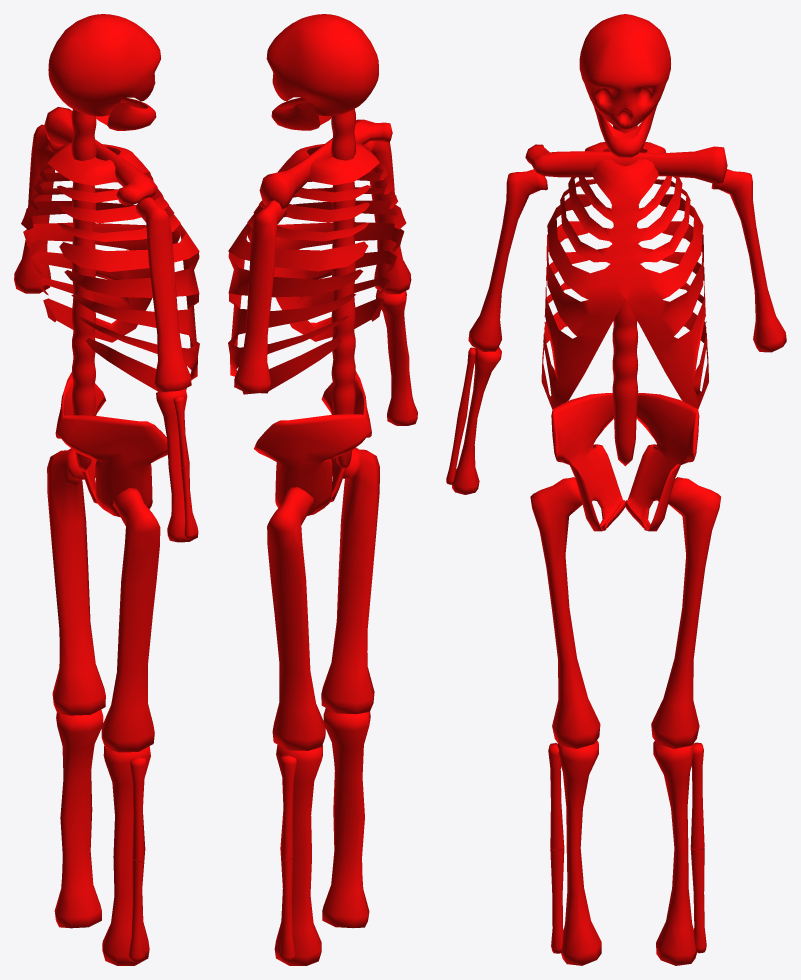
Rendered from red skeleton.fbx.
The picture shows the model from 3 angles, left to right: view 1: azimuth 30°, elevation 25°; view 2: azimuth 150°, elevation 25°; view 3: azimuth 270°, elevation 25°; orthographic projection.
Parts seen in each view (by area): view 1: Cube.009, Plane, Cube.001, Cube, Cube.008, Cube.005, Cube.004, Plane.001, Cube.010, Cube.002, Cube.006, Cube.003 (+1 smaller); view 2: Cube.009, Plane, Cube, Cube.001, Cube.008, Cube.004, Cube.005, Plane.001, Cube.010, Cube.003, Cube.006, Cube.007 (+1 smaller); view 3: Cube.009, Cube.008, Plane, Cube.004, Cube.005, Cube.001, Cube, Plane.001, Cube.007, Cube.002, Cube.010, Cube.003 (+1 smaller).
Part boxes in pixels (left/top/right/bottom): Cube.009: left=21, top=143, right=199, bottom=390; Plane: left=48, top=14, right=160, bottom=130; Cube.001: left=47, top=448, right=105, bottom=715; Cube: left=101, top=488, right=160, bottom=752; Cube.008: left=55, top=372, right=167, bottom=517; Cube.005: left=102, top=746, right=150, bottom=965; Cube.004: left=54, top=709, right=103, bottom=928; Plane.001: left=48, top=14, right=159, bottom=130; Cube.010: left=71, top=109, right=96, bottom=471; Cube.002: left=136, top=197, right=191, bottom=392; Cube.006: left=156, top=389, right=198, bottom=542; Cube.003: left=14, top=124, right=63, bottom=293; Cube.009: left=228, top=142, right=406, bottom=394; Plane: left=267, top=14, right=378, bottom=130; Cube: left=321, top=447, right=379, bottom=714; Cube.001: left=267, top=487, right=325, bottom=750; Cube.008: left=254, top=371, right=371, bottom=515; Cube.004: left=274, top=744, right=322, bottom=965; Cube.005: left=322, top=708, right=370, bottom=928; Plane.001: left=266, top=14, right=378, bottom=130; Cube.010: left=331, top=109, right=356, bottom=470; Cube.003: left=234, top=200, right=287, bottom=393; Cube.006: left=375, top=289, right=417, bottom=425; Cube.007: left=259, top=119, right=392, bottom=209; Cube.009: left=541, top=142, right=708, bottom=409; Cube.008: left=551, top=393, right=699, bottom=531; Plane: left=579, top=14, right=670, bottom=157; Cube.004: left=653, top=741, right=706, bottom=965; Cube.005: left=548, top=740, right=601, bottom=965; Cube.001: left=651, top=477, right=720, bottom=748; Cube: left=530, top=477, right=600, bottom=748; Plane.001: left=580, top=14, right=670, bottom=157; Cube.007: left=525, top=144, right=727, bottom=183; Cube.002: left=468, top=169, right=547, bottom=351; Cube.010: left=612, top=125, right=638, bottom=466; Cube.003: left=711, top=169, right=786, bottom=352.
Size of the model in its own units: 36 by 237 by 77.78.
